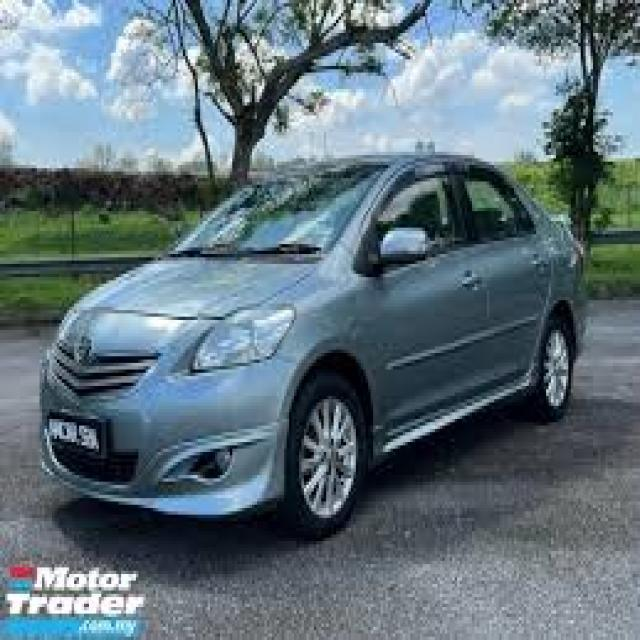ToyotaVios: (37, 149, 588, 539)
